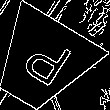P_SW: (12, 32, 72, 94)
